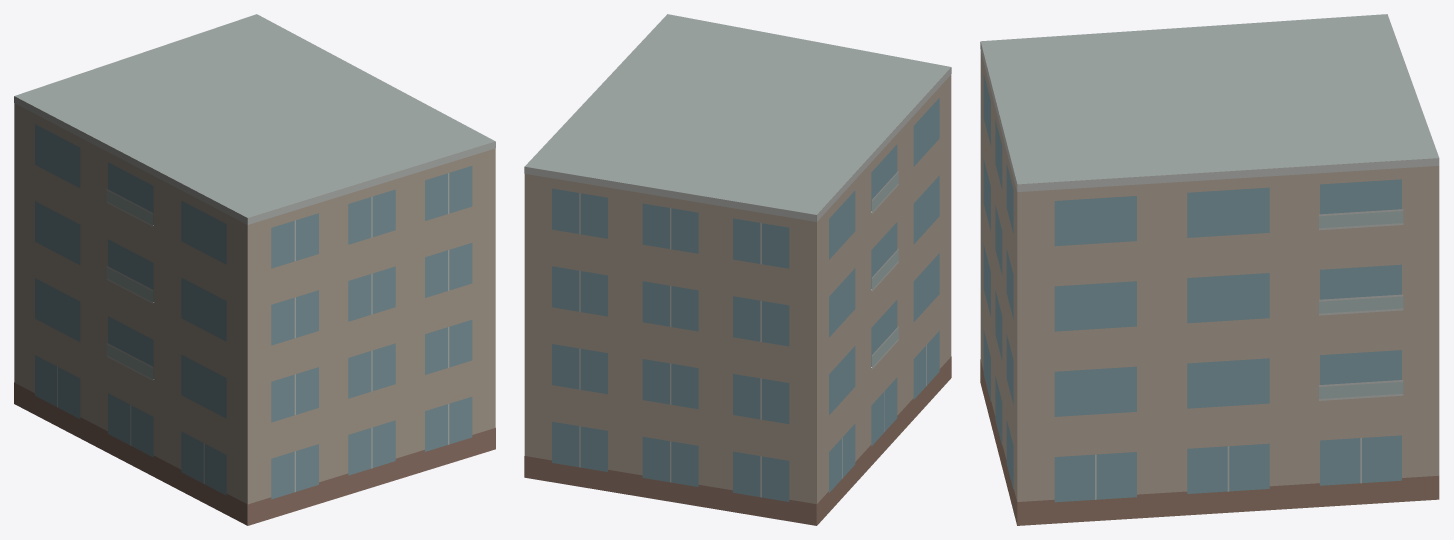
The model's file is survey-upis-32531872.glb.
3 renders of one model, left to right at view 1: azimuth 30°, elevation 25°; view 2: azimuth 150°, elevation 25°; view 3: azimuth 270°, elevation 25°, orthographic. The views are drawn at different scales.
Visible parts, largest first — view 1: survey-upis-32531872.tmp; view 2: survey-upis-32531872.tmp; view 3: survey-upis-32531872.tmp.
Part boxes in pixels (x1=…): survey-upis-32531872.tmp: x1=14, y1=14, x2=495, y2=525; survey-upis-32531872.tmp: x1=524, y1=14, x2=951, y2=525; survey-upis-32531872.tmp: x1=980, y1=14, x2=1439, y2=525.
Size of the model in its own units: 11.57 by 10.8 by 13.16.
